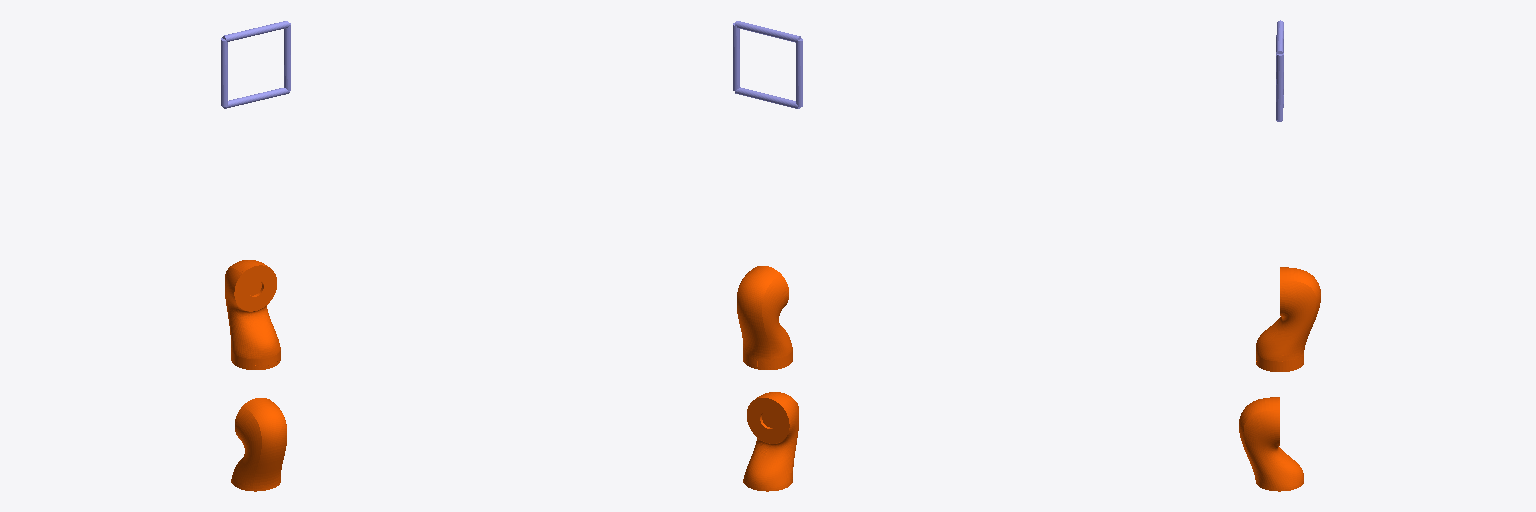
URDF robot description (iiwa7):
<?xml version="1.0" ?>
<!-- =================================================================================== -->
<!-- |    This document was autogenerated by xacro from iiwa_description/urdf/iiwa7.urdf.xacro | -->
<!-- |    EDITING THIS FILE BY HAND IS NOT RECOMMENDED                                 | -->
<!-- =================================================================================== -->
<robot name="iiwa7" xmlns:xacro="http://www.ros.org/wiki/xacro">
  <material name="Black">
    <color rgba="0.0 0.0 0.0 1.0"/>
  </material>
  <material name="Blue">
    <color rgba="0.0 0.0 0.8 1.0"/>
  </material>
  <material name="Green">
    <color rgba="0.0 0.8 0.0 1.0"/>
  </material>
  <material name="Grey">
    <color rgba="0.4 0.4 0.4 1.0"/>
  </material>
  <material name="Orange">
    <color rgba="1.0 0.42352 0.03921 1.0"/>
  </material>
  <material name="Brown">
    <color rgba="0.87058 0.81176 0.7647 1.0"/>
  </material>
  <material name="Red">
    <color rgba="0.8 0.0 0.0 1.0"/>
  </material>
  <material name="White">
    <color rgba="1.0 1.0 1.0 1.0"/>
  </material>
  <material name="cloth_blue">
    <color rgba="0.65294 0.65294 0.95294 1"/>
  </material>
  <!-- Fix to world just for testing -->
  <link name="base"/>
  <!--joint between {parent} and link_0-->
  <joint name="world_iiwa_joint" type="fixed">
    <origin rpy="0 0 0" xyz="0 0 0"/>
    <parent link="base"/>
    <child link="iiwa_link_0"/>
  </joint>
  <link name="iiwa_link_0">
    <inertial>
      <origin rpy="0 0 0" xyz="-0.1 0 0.07"/>
      <mass value="5"/>
      <inertia ixx="0.05" ixy="0" ixz="0" iyy="0.06" iyz="0" izz="0.03"/>
    </inertial>
    <visual>
      <origin rpy="0 0 0" xyz="0 0 0"/>
      <geometry>
        <mesh filename="../meshes/iiwa7/visual/link_0_bright.dae"/>
      </geometry>
      <material name="Grey"/>
    </visual>
    <collision>
      <origin rpy="0 0 0" xyz="0 0 0"/>
      <geometry>
        <mesh filename="../meshes/iiwa7/collision/link_0.stl"/>
      </geometry>
      <material name="Grey"/>
    </collision>
    <self_collision_checking>
      <origin rpy="0 0 0" xyz="0 0 0"/>
      <geometry>
        <capsule length="0.25" radius="0.15"/>
      </geometry>
    </self_collision_checking>
  </link>
  <!-- joint between link_0 and link_1 -->
  <joint name="iiwa_joint_1" type="revolute">
    <parent link="iiwa_link_0"/>
    <child link="iiwa_link_1"/>
    <origin rpy="0 0 0" xyz="0 0 0.15"/>
    <axis xyz="0 0 1"/>
    <limit effort="300" lower="-2.96705972839" upper="2.96705972839" velocity="10"/>
    <safety_controller k_position="100" k_velocity="2" soft_lower_limit="-2.93215314335" soft_upper_limit="2.93215314335"/>
    <dynamics damping="0.5"/>
  </joint>
  <link name="iiwa_link_1">
    <inertial>
      <origin rpy="0 0 0" xyz="0 -0.03 0.12"/>
      <mass value="3.4525"/>
      <inertia ixx="0.02183" ixy="0" ixz="0" iyy="0.007703" iyz="-0.003887" izz="0.02083"/>
    </inertial>
    <visual>
      <origin rpy="0 0 0" xyz="0 0 0.0075"/>
      <geometry>
        <mesh filename="../meshes/iiwa7/visual/link_1_bright.dae"/>
      </geometry>
      <material name="Orange"/>
    </visual>
    <collision>
      <origin rpy="0 0 0" xyz="0 0 0.0075"/>
      <geometry>
        <mesh filename="../meshes/iiwa7/collision/link_1.stl"/>
      </geometry>
      <material name="Orange"/>
    </collision>
  </link>
  <joint name="iiwa_joint_2" type="revolute">
    <parent link="iiwa_link_1"/>
    <child link="iiwa_link_2"/>
    <origin rpy="1.57079632679   0 3.14159265359" xyz="0 0 0.19"/>
    <axis xyz="0 0 1"/>
    <limit effort="300" lower="-2.09439510239" upper="2.09439510239" velocity="10"/>
    <safety_controller k_position="100" k_velocity="2" soft_lower_limit="-2.05948851735" soft_upper_limit="2.05948851735"/>
    <dynamics damping="0.5"/>
  </joint>
  <link name="iiwa_link_2">
    <inertial>
      <origin rpy="0 0 0" xyz="0.0003 0.059 0.042"/>
      <mass value="3.4821"/>
      <inertia ixx="0.02076" ixy="0" ixz="-0.003626" iyy="0.02179" iyz="0" izz="0.00779"/>
    </inertial>
    <visual>
      <origin rpy="0 0 0" xyz="0 0 0"/>
      <geometry>
        <mesh filename="../meshes/iiwa7/visual/link_2_bright.dae"/>
      </geometry>
      <material name="Orange"/>
    </visual>
    <collision>
      <origin rpy="0 0 0" xyz="0 0 0"/>
      <geometry>
        <mesh filename="../meshes/iiwa7/collision/link_2.stl"/>
      </geometry>
      <material name="Orange"/>
    </collision>
  </link>
  <joint name="iiwa_joint_3" type="revolute">
    <parent link="iiwa_link_2"/>
    <child link="iiwa_link_3"/>
    <origin rpy="1.57079632679 0 3.14159265359" xyz="0 0.21 0"/>
    <axis xyz="0 0 1"/>
    <limit effort="300" lower="-2.96705972839" upper="2.96705972839" velocity="10"/>
    <safety_controller k_position="100" k_velocity="2" soft_lower_limit="-2.93215314335" soft_upper_limit="2.93215314335"/>
    <dynamics damping="0.5"/>
  </joint>
  <link name="iiwa_link_3">
    <inertial>
      <origin rpy="0 0 0" xyz="0 0.03 0.13"/>
      <mass value="4.05623"/>
      <inertia ixx="0.03204" ixy="0" ixz="0" iyy="0.00972" iyz="0.006227" izz="0.03042"/>
    </inertial>
    <visual>
      <origin rpy="0 0 0" xyz="0 0 -0.026"/>
      <geometry>
        <mesh filename="../meshes/iiwa7/visual/link_3_bright.dae"/>
      </geometry>
      <material name="Orange"/>
    </visual>
    <collision>
      <origin rpy="0 0 0" xyz="0 0 -0.026"/>
      <geometry>
        <mesh filename="../meshes/iiwa7/collision/link_3.stl"/>
      </geometry>
      <material name="Orange"/>
    </collision>
  </link>
  <joint name="iiwa_joint_4" type="revolute">
    <parent link="iiwa_link_3"/>
    <child link="iiwa_link_4"/>
    <origin rpy="1.57079632679 0 0" xyz="0 0 0.19"/>
    <axis xyz="0 0 1"/>
    <limit effort="300" lower="-2.09439510239" upper="2.09439510239" velocity="10"/>
    <safety_controller k_position="100" k_velocity="2" soft_lower_limit="-2.05948851735" soft_upper_limit="2.05948851735"/>
    <dynamics damping="0.5"/>
  </joint>
  <link name="iiwa_link_4">
    <inertial>
      <origin rpy="0 0 0" xyz="0 0.067 0.034"/>
      <mass value="3.4822"/>
      <inertia ixx="0.02178" ixy="0" ixz="0" iyy="0.02075" iyz="-0.003625" izz="0.007785"/>
    </inertial>
    <visual>
      <origin rpy="0 0 0" xyz="0 0 0"/>
      <geometry>
        <mesh filename="../meshes/iiwa7/visual/link_4_bright.dae"/>
      </geometry>
      <material name="Orange"/>
    </visual>
    <collision>
      <origin rpy="0 0 0" xyz="0 0 0"/>
      <geometry>
        <mesh filename="../meshes/iiwa7/collision/link_4.stl"/>
      </geometry>
      <material name="Orange"/>
    </collision>
  </link>
  <joint name="iiwa_joint_5" type="revolute">
    <parent link="iiwa_link_4"/>
    <child link="iiwa_link_5"/>
    <origin rpy="-1.57079632679 3.14159265359 0" xyz="0 0.21 0"/>
    <axis xyz="0 0 1"/>
    <limit effort="300" lower="-2.96705972839" upper="2.96705972839" velocity="10"/>
    <safety_controller k_position="100" k_velocity="2" soft_lower_limit="-2.93215314335" soft_upper_limit="2.93215314335"/>
    <dynamics damping="0.5"/>
  </joint>
  <link name="iiwa_link_5">
    <inertial>
      <origin rpy="0 0 0" xyz="0.0001 0.021 0.076"/>
      <mass value="2.1633"/>
      <inertia ixx="0.01287" ixy="0" ixz="0" iyy="0.005708" iyz="-0.003946" izz="0.01112"/>
    </inertial>
    <visual>
      <origin rpy="0 0 0" xyz="0 0 -0.026"/>
      <geometry>
        <mesh filename="../meshes/iiwa7/visual/link_5_bright.dae"/>
      </geometry>
      <material name="Orange"/>
    </visual>
    <collision>
      <origin rpy="0 0 0" xyz="0 0 -0.026"/>
      <geometry>
        <mesh filename="../meshes/iiwa7/collision/link_5.stl"/>
      </geometry>
      <material name="Orange"/>
    </collision>
  </link>
  <joint name="iiwa_joint_6" type="revolute">
    <parent link="iiwa_link_5"/>
    <child link="iiwa_link_6"/>
    <origin rpy="1.57079632679 0 0" xyz="0 0.06070 0.19"/>
    <axis xyz="0 0 1"/>
    <limit effort="300" lower="-2.09439510239" upper="2.09439510239" velocity="10"/>
    <safety_controller k_position="100" k_velocity="2" soft_lower_limit="-2.05948851735" soft_upper_limit="2.05948851735"/>
    <dynamics damping="0.5"/>
  </joint>
  <link name="iiwa_link_6">
    <inertial>
      <origin rpy="0 0 0" xyz="0 0.0006 0.0004"/>
      <mass value="2.3466"/>
      <inertia ixx="0.006509" ixy="0" ixz="0" iyy="0.006259" iyz="0.00031891" izz="0.004527"/>
    </inertial>
    <visual>
      <origin rpy="0 0 0" xyz="0 0 0"/>
      <geometry>
        <mesh filename="../meshes/iiwa7/visual/link_6_bright.dae"/>
      </geometry>
      <material name="Orange"/>
    </visual>
    <collision>
      <origin rpy="0 0 0" xyz="0 0 0"/>
      <geometry>
        <mesh filename="../meshes/iiwa7/collision/link_6.stl"/>
      </geometry>
      <material name="Orange"/>
    </collision>
  </link>
  <joint name="iiwa_joint_7" type="revolute">
    <parent link="iiwa_link_6"/>
    <child link="iiwa_link_7"/>
    <origin rpy="-1.57079632679 3.14159265359 0" xyz="0 0.081 0.06070"/>
    <axis xyz="0 0 1"/>
    <limit effort="300" lower="-3.05432619099" upper="3.05432619099" velocity="10"/>
    <safety_controller k_position="100" k_velocity="2" soft_lower_limit="-3.01941960595" soft_upper_limit="3.01941960595"/>
    <dynamics damping="0.5"/>
  </joint>
  <link name="iiwa_link_7">
    <inertial>
      <origin rpy="0 0 0" xyz="0 0 0.02"/>
      <mass value="3.129"/>
      <inertia ixx="0.01464" ixy="0.0005912" ixz="0" iyy="0.01465" iyz="0" izz="0.002872"/>
    </inertial>
    <visual>
      <origin rpy="0 0 0" xyz="0 0 -0.0005"/>
      <geometry>
        <mesh filename="../meshes/iiwa7/visual/link_7_bright.dae"/>
      </geometry>
      <material name="Grey"/>
    </visual>
    <collision>
      <origin rpy="0 0 0" xyz="0 0 -0.0005"/>
      <geometry>
        <mesh filename="../meshes/iiwa7/collision/link_7.stl"/>
      </geometry>
      <material name="Grey"/>
    </collision>
  </link>
  <joint name="iiwa_joint_ee" type="fixed">
    <parent link="iiwa_link_7"/>
    <child link="iiwa_link_ee"/>
    <origin rpy="0 0 0" xyz="0 0 0.045"/>
  </joint>
  <link name="iiwa_link_ee">
    </link>
    
    
    <link name="hoop_dof_1" />
  <joint name="right_hoop_dj1" type="continuous">
    <origin rpy="1.57079632679 0 0" xyz="0 0 0.05"/>
    <parent link="iiwa_link_ee"/>
    <child link="hoop_dof_1"/>
    <axis xyz="1 0 0"/>
  </joint>
  
  <link name="hoop_dof_2" />
  <joint name="right_hoop_dj2" type="continuous">
    <origin rpy="0 0 0" xyz="0 0 0"/>
    <parent link="hoop_dof_1"/>
    <child link="hoop_dof_2"/>
    <axis xyz="0 1 0"/>
  </joint>
  
  <link name="hoop_dof_3" />
  <joint name="right_hoop_dj3" type="continuous">
    <origin rpy="0 0 0" xyz="0 0 0"/>
    <parent link="hoop_dof_2"/>
    <child link="hoop_dof_3"/>
    <axis xyz="0 0 1"/>
  </joint>

  <link name="right_hoop_1">
    <collision>
      <origin rpy="0 1.56 0" xyz="0 0 0"/>
      <geometry>
        <cylinder length="0.2" radius="0.01"/>
      </geometry>
    </collision>
    <visual>
      <origin rpy="0 1.56 0" xyz="0 0 0"/>
      <geometry>
        <cylinder length="0.2" radius="0.01"/>
      </geometry>
      <material name="cloth_blue"/>
    </visual>
    <inertial>
      <origin rpy="0 1.56 0" xyz="1.0E-08 1.0E-08 1.0E-08"/>
      <mass value="0.1"/>
      <inertia ixx="0.000335833" ixy="0.0" ixz="0.0" iyy="0.000335833" iyz="0.0" izz="0.000005"/>
    </inertial>
  </link>
  <joint name="right_hoop_j1" type="fixed">
    <origin rpy="0 0 0" xyz="0 0 0"/>
    <parent link="hoop_dof_3"/>
    <child link="right_hoop_1"/>
    <axis xyz="0 0 1"/>
  </joint>
  
  <link name="right_hoop_2">
    <collision>
      <origin rpy="1.56 0 0" xyz="0.1 0.1 0.0"/>
      <geometry>
        <cylinder length="0.2" radius="0.01"/>
      </geometry>
    </collision>
    <visual>
      <origin rpy="1.56 0 0" xyz="0.1 0.1 0.0"/>
      <geometry>
        <cylinder length="0.2" radius="0.01"/>
      </geometry>
      <material name="cloth_blue"/>
    </visual>
    <inertial>
      <origin rpy="1.56 0 0" xyz="0.1 0.1 0.0"/>
      <mass value="0.1"/>
      <inertia ixx="0.000335833" ixy="0.0" ixz="0.0" iyy="0.000335833" iyz="0.0" izz="0.000005"/>
    </inertial>
  </link>
  <joint name="right_hoop_j2" type="fixed">
    <origin rpy="0 0 0" xyz="0 0 0"/>
    <parent link="right_hoop_1"/>
    <child link="right_hoop_2"/>
  </joint>
  
  <link name="right_hoop_3">
    <collision>
      <origin rpy="1.56 0 0" xyz="-0.1 0.1 0.0"/>
      <geometry>
        <cylinder length="0.2" radius="0.01"/>
      </geometry>
    </collision>
    <visual>
      <origin rpy="1.56 0 0" xyz="-0.1 0.1 0.0"/>
      <geometry>
        <cylinder length="0.2" radius="0.01"/>
      </geometry>
      <material name="cloth_blue"/>
    </visual>
    <inertial>
      <origin rpy="1.56 0 0" xyz="-0.1 0.1 0.0"/>
      <mass value="0.1"/>
      <inertia ixx="0.000335833" ixy="0.0" ixz="0.0" iyy="0.000335833" iyz="0.0" izz="0.000005"/>
    </inertial>
  </link>
  <joint name="right_hoop_j3" type="fixed">
    <origin rpy="0 0 0" xyz="0 0 0"/>
    <parent link="right_hoop_1"/>
    <child link="right_hoop_3"/>
  </joint>
  
  <link name="right_hoop_4">
    <collision>
      <origin rpy="0 1.56 0" xyz="0 0.2 0.0"/>
      <geometry>
        <cylinder length="0.2" radius="0.01"/>
      </geometry>
    </collision>
    <visual>
      <origin rpy="0 1.56 0" xyz="0 0.2 0.0"/>
      <geometry>
        <cylinder length="0.2" radius="0.01"/>
      </geometry>
      <material name="cloth_blue"/>
    </visual>
    <inertial>
      <origin rpy="0 1.56 0" xyz="0 0.2 0"/>
      <mass value="0.1"/>
      <inertia ixx="0.000335833" ixy="0.0" ixz="0.0" iyy="0.000335833" iyz="0.0" izz="0.000005"/>
    </inertial>
  </link>
  <joint name="right_hoop_j4" type="fixed">
    <origin rpy="0 0 0" xyz="0 0 0"/>
    <parent link="right_hoop_1"/>
    <child link="right_hoop_4"/>
  </joint>
</robot>

--- Facts derived from the render (not from the file) ---
The picture shows the robot from 3 angles, left to right: view 1: azimuth 30°, elevation 25°; view 2: azimuth 150°, elevation 25°; view 3: azimuth 270°, elevation 25°; orthographic projection.
Model iiwa7 with 17 links and 16 joints (7 revolute, 3 continuous, 6 fixed), rooted at base, posed every joint at zero.
Links seen in each view (by area): view 1: iiwa_link_3, iiwa_link_1; view 2: iiwa_link_3, iiwa_link_1; view 3: iiwa_link_3, iiwa_link_1.
Boxes of the visible links, x1,y1,x2,y2 form: iiwa_link_3: (225, 260, 280, 369); iiwa_link_1: (231, 398, 286, 491); iiwa_link_3: (737, 266, 792, 369); iiwa_link_1: (743, 392, 798, 491); iiwa_link_3: (1256, 267, 1320, 371); iiwa_link_1: (1239, 397, 1303, 491).
Bounding box of the posed robot: 0.22 × 0.2292 × 1.38 m (x, y, z).
2 mesh visuals loaded from 8 distinct referenced files (2 Collada DAE); not drawn: 6 (reference not matched to a file when rendering).